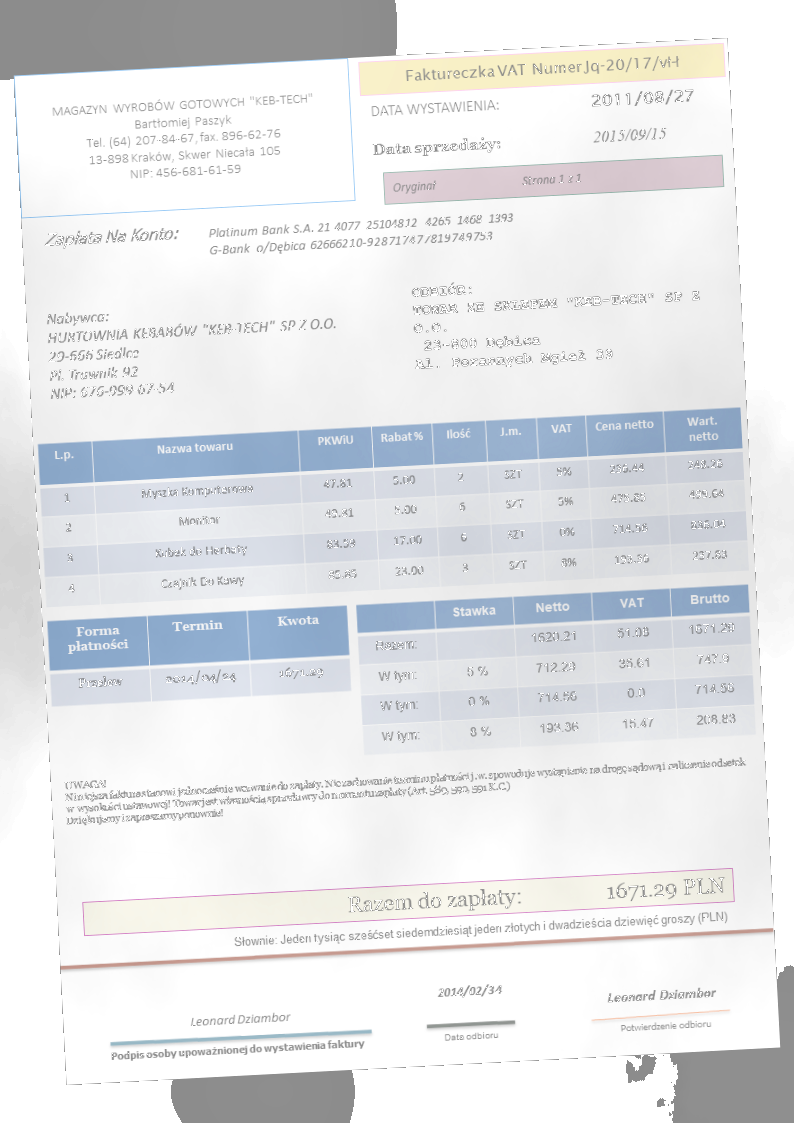Table: (37, 405, 750, 609), (354, 583, 758, 757), (46, 603, 353, 709)
TextBox: (61, 743, 750, 830), (408, 266, 708, 375), (42, 295, 340, 403), (49, 89, 320, 187), (232, 906, 728, 953), (345, 872, 728, 920), (205, 209, 518, 260), (402, 51, 680, 86), (108, 1034, 368, 1065), (391, 171, 582, 197), (42, 223, 180, 252), (370, 134, 504, 160), (368, 95, 501, 121), (589, 87, 696, 113), (603, 984, 716, 1005), (187, 1008, 294, 1030), (591, 124, 668, 146), (619, 1018, 713, 1034), (435, 981, 504, 1001), (440, 1027, 500, 1044)
